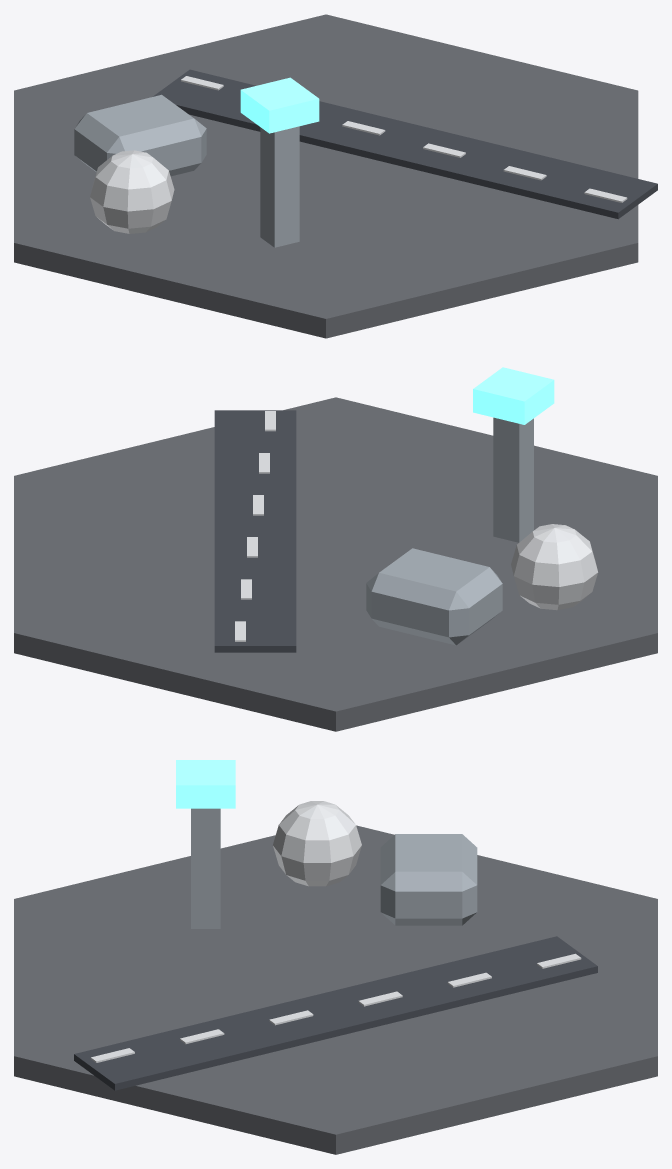
3 renders of one model, top to bottom at view 1: azimuth 30°, elevation 25°; view 2: azimuth 150°, elevation 25°; view 3: azimuth 270°, elevation 25°, orthographic. The views are drawn at different scales.
Parts seen in each view (by area): view 1: base; view 2: base; view 3: base.
Part boxes in pixels (box(x1,y1,x2,y2)): base: box(14, 14, 657, 338); base: box(14, 367, 657, 731); base: box(14, 760, 657, 1154).
Size of the model in its own units: 1 by 0.2525 by 0.866.
